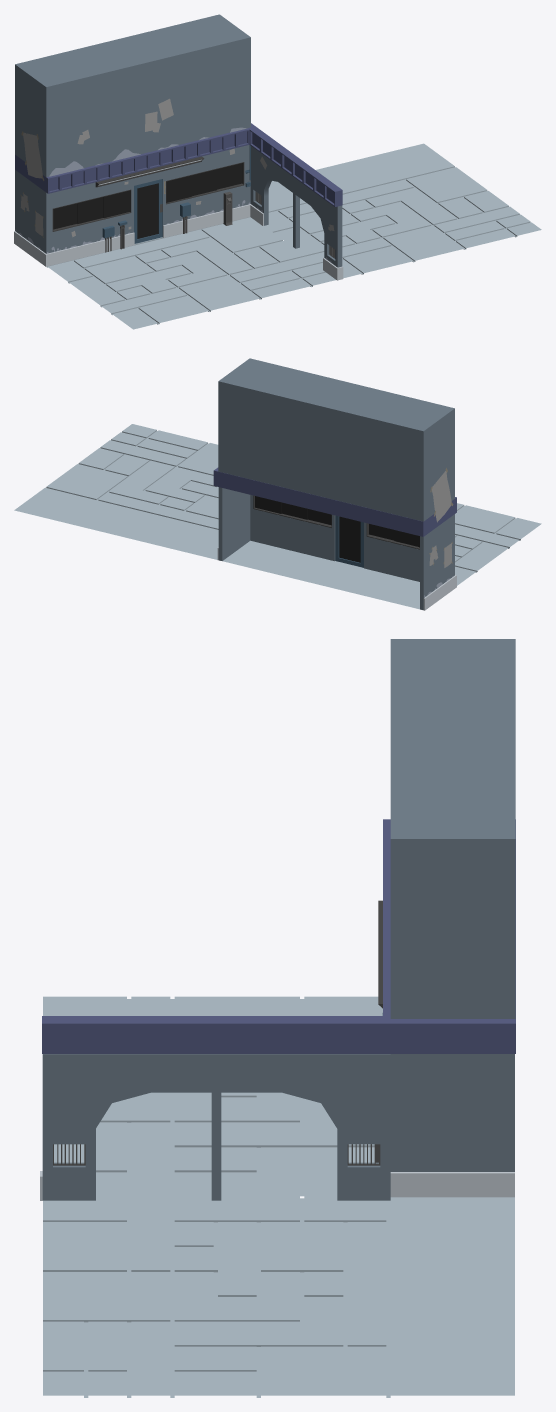
Rendered from decor1_1.fbx.
The picture shows the model from 3 angles, top to bottom: view 1: azimuth 30°, elevation 25°; view 2: azimuth 150°, elevation 25°; view 3: azimuth 270°, elevation 25°; orthographic projection. The views are drawn at different scales.
Parts seen in each view (by area): view 1: decor1_2; view 2: decor1_2; view 3: decor1_2.
Boxes of the visible parts, x1,y1,x2,y2 form: decor1_2: (14,14,541,329); decor1_2: (14,358,541,610); decor1_2: (40,639,515,1397).
Bounding box in the file's own units: 1771 × 745 × 891.
